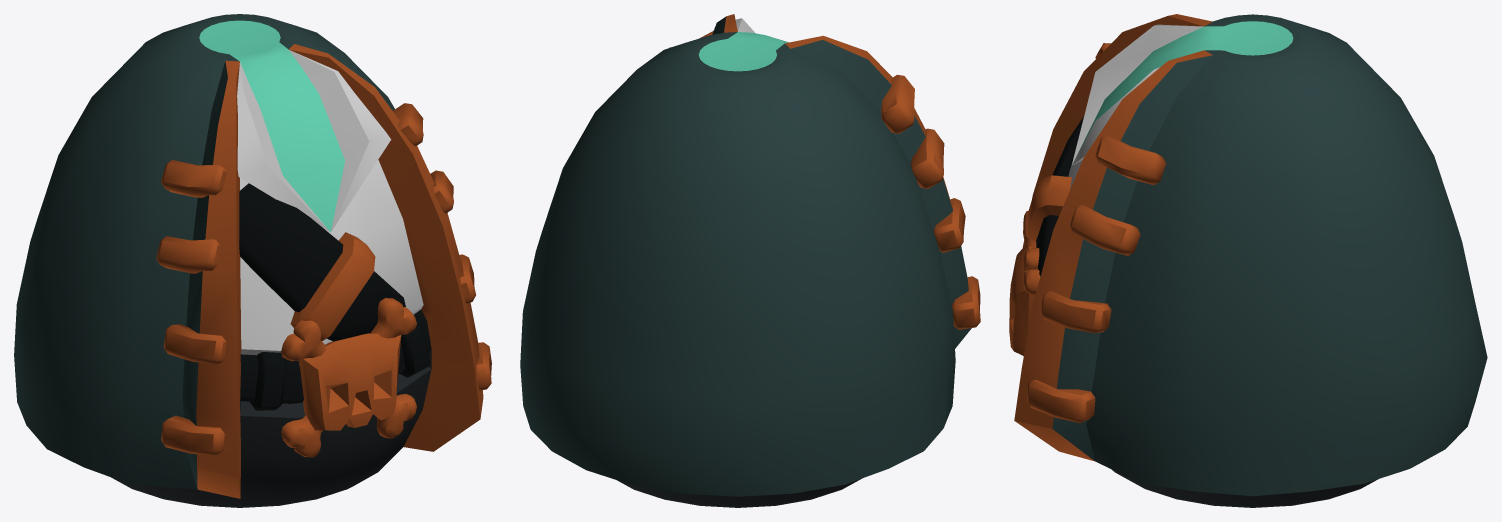
The model's file is character_pirateGhost_body.obj.
3 renders of one model, left to right at view 1: azimuth 30°, elevation 25°; view 2: azimuth 150°, elevation 25°; view 3: azimuth 270°, elevation 25°, orthographic. The views are drawn at different scales.
Parts seen in each view (by area): view 1: character_pirateGhost_body_Cube.187; view 2: character_pirateGhost_body_Cube.187; view 3: character_pirateGhost_body_Cube.187.
Part boxes in pixels (bbox=[...]): character_pirateGhost_body_Cube.187: bbox=[14, 14, 491, 507]; character_pirateGhost_body_Cube.187: bbox=[520, 14, 980, 507]; character_pirateGhost_body_Cube.187: bbox=[1009, 14, 1487, 507].
Bounding box in the file's own units: 0.7185 × 0.7256 × 0.7718.
